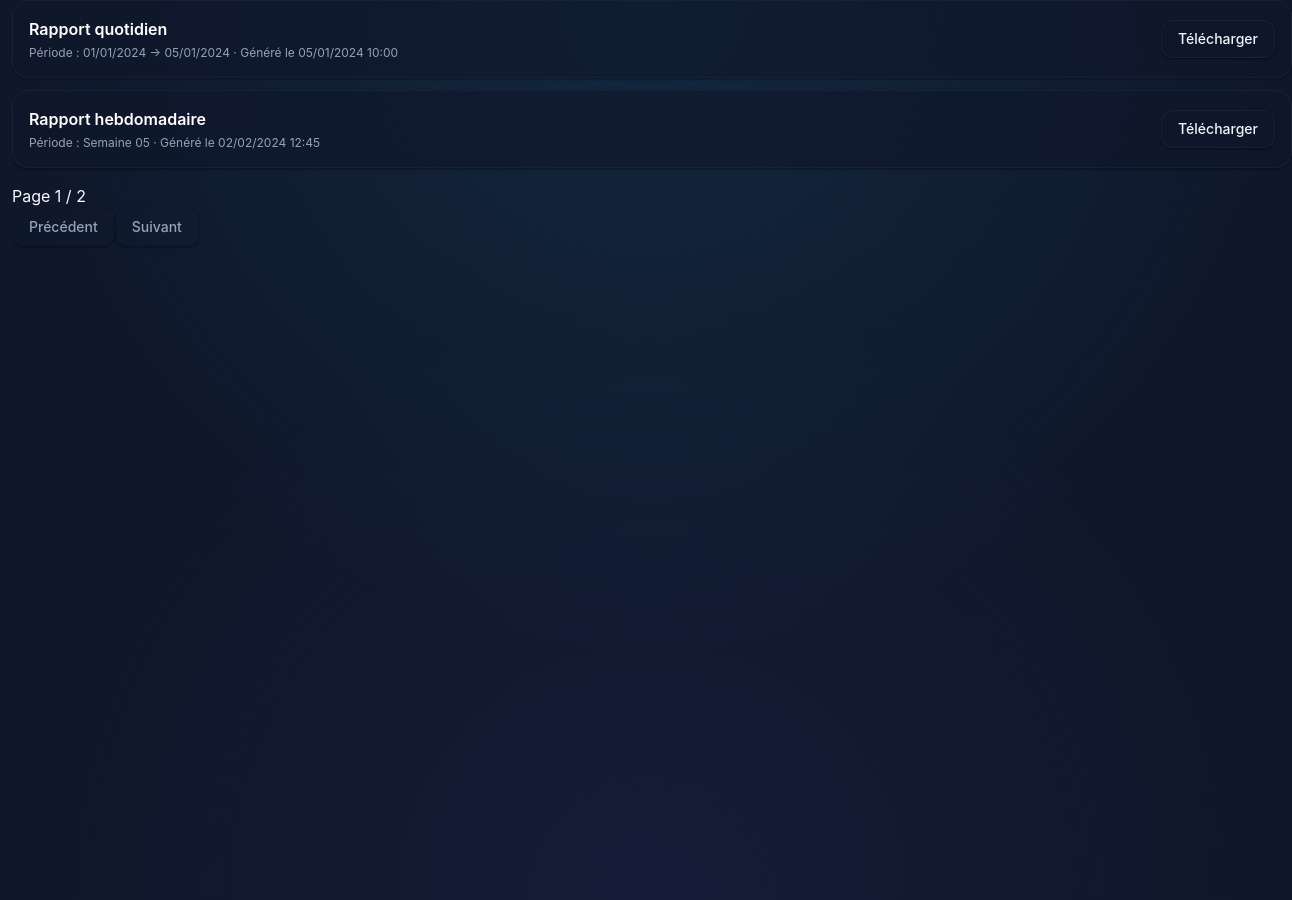
it: ReportsList › renders reports with pagination
Expected: the text "Rapport quotidien" is shown, [29,19,167,39]
Expected: the text "Rapport hebdomadaire" is shown, [29,109,206,129]
Click the button "Suivant" at (157, 227), box [115,208,199,246]
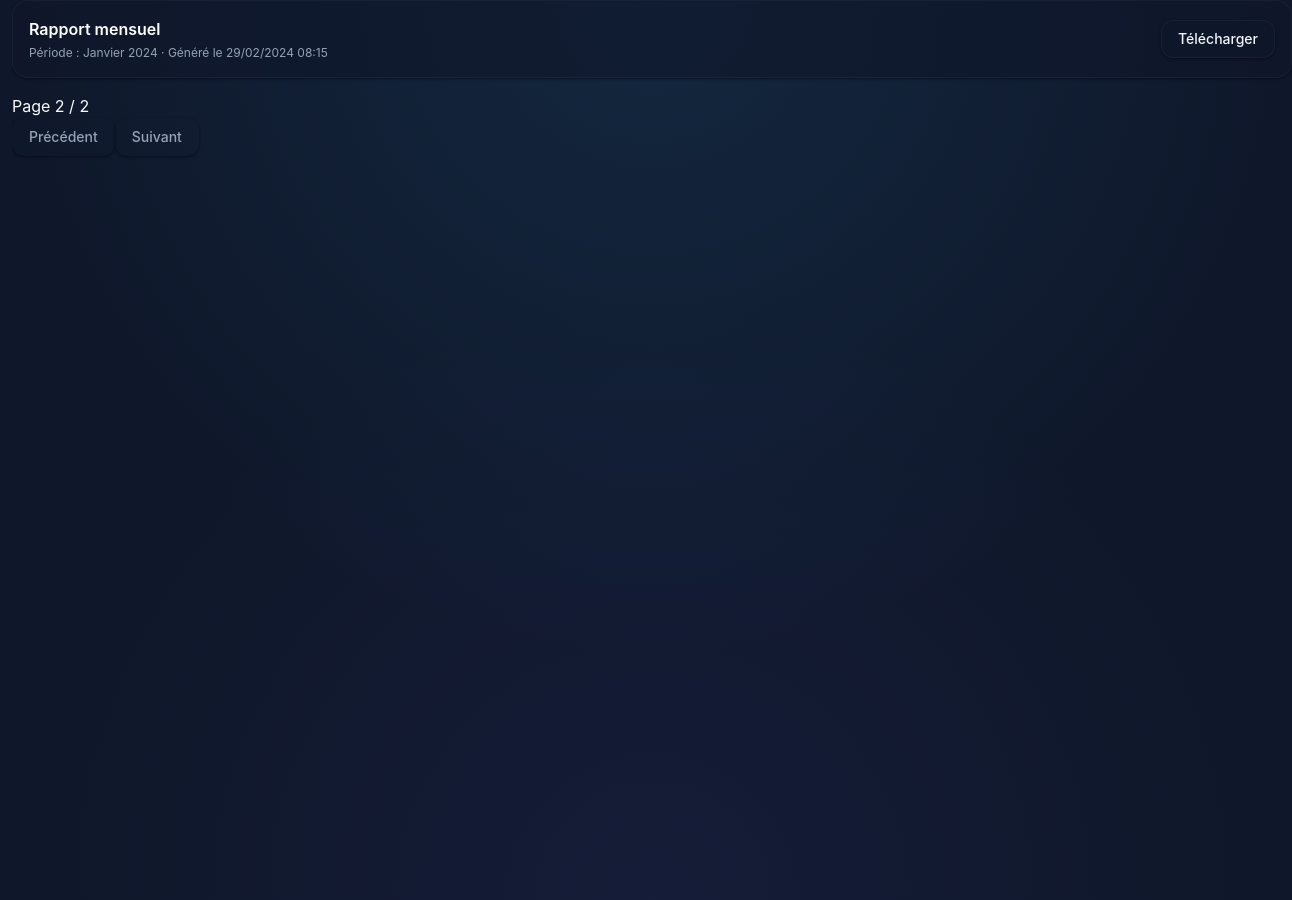
Result: the text "Rapport mensuel" is shown at [29,19,160,39]
Result: the button "Précédent" is enabled at [12,118,115,156]
